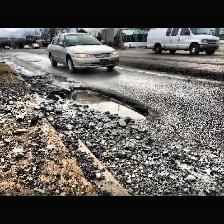pothole: (63, 85, 149, 121), (50, 72, 75, 84)
